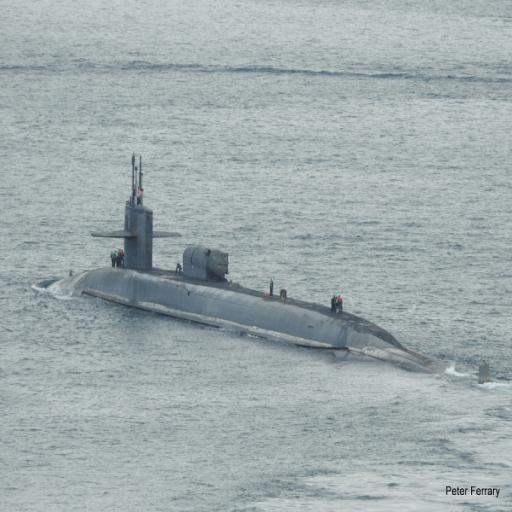submarine: (76, 149, 495, 389)
